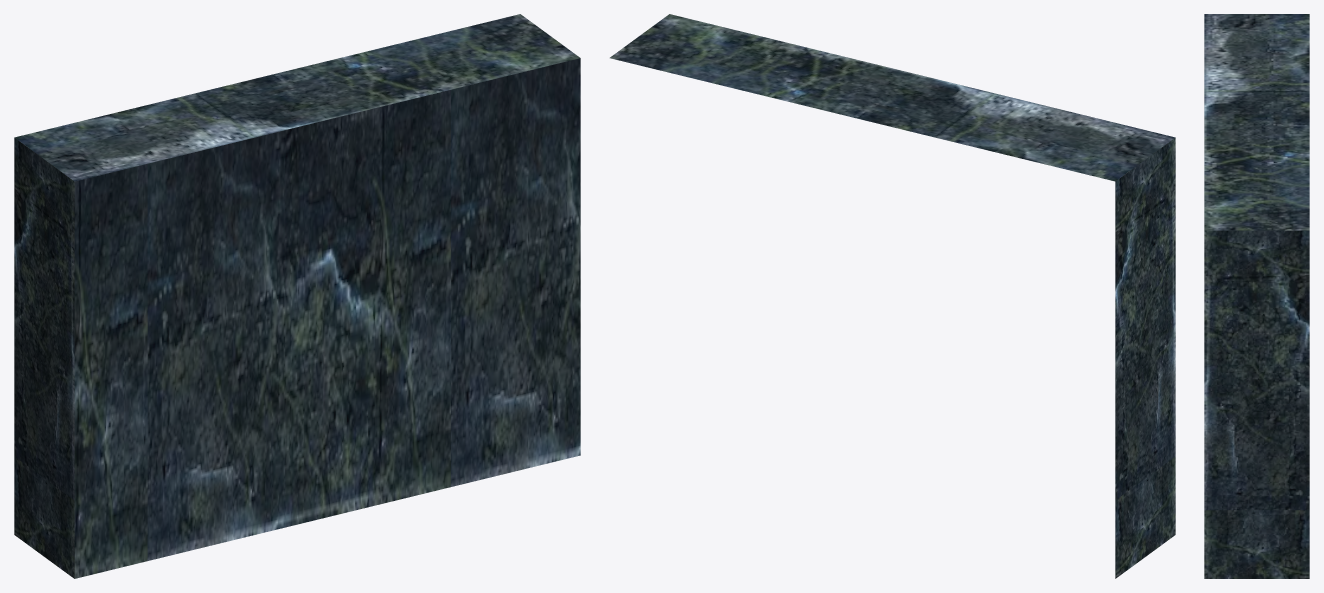
The picture shows the model from 3 angles, left to right: view 1: azimuth 30°, elevation 25°; view 2: azimuth 150°, elevation 25°; view 3: azimuth 270°, elevation 25°; orthographic projection. The views are drawn at different scales.
Parts seen in each view (by area): view 1: model_Object28; view 2: model_Object28; view 3: model_Object28.
Boxes of the visible parts, left/top/right/bottom form: model_Object28: left=14, top=14, right=580, bottom=578; model_Object28: left=610, top=14, right=1175, bottom=578; model_Object28: left=1204, top=14, right=1309, bottom=578.
Size of the model in its own units: 3.5 by 2.62 by 0.7207.
Materials: 1 (1 with a texture image).
